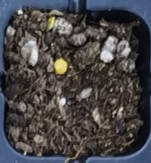pepper seed: (20, 19, 88, 95), (18, 0, 74, 30)
